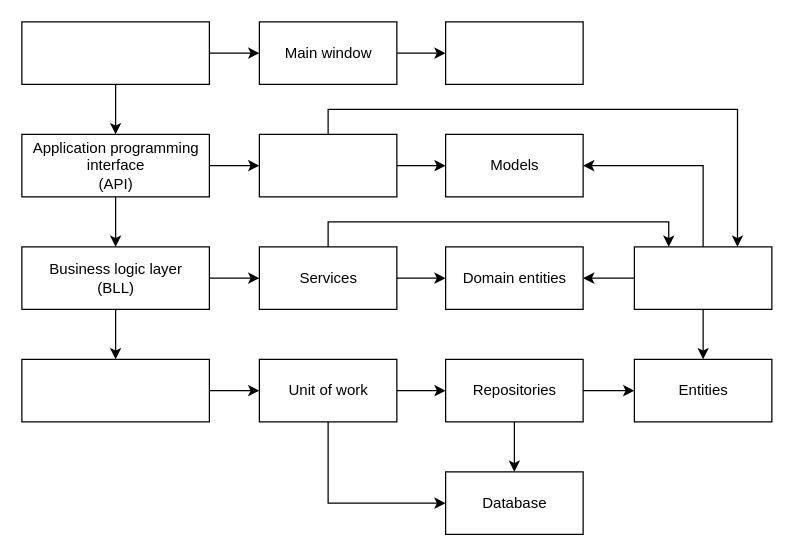
The diagram is 794 pixels wide and 556 high, and some of its shapes have lost their labels. The centre of each missing label's shape, as x and y in pixels:
Controllers: (327,165)
Data access layer (DAL): (115,390)
Mappers: (702,277)
Presentation layer with user interface (PL): (115,52)
Views: (513,52)
